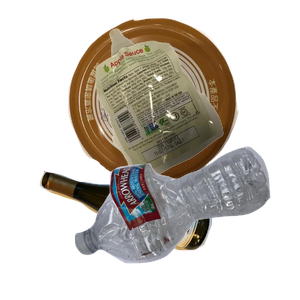glass: (37, 168, 242, 300)
metal: (66, 15, 297, 193)
plastic: (72, 144, 300, 300)
trash: (93, 26, 300, 200)
